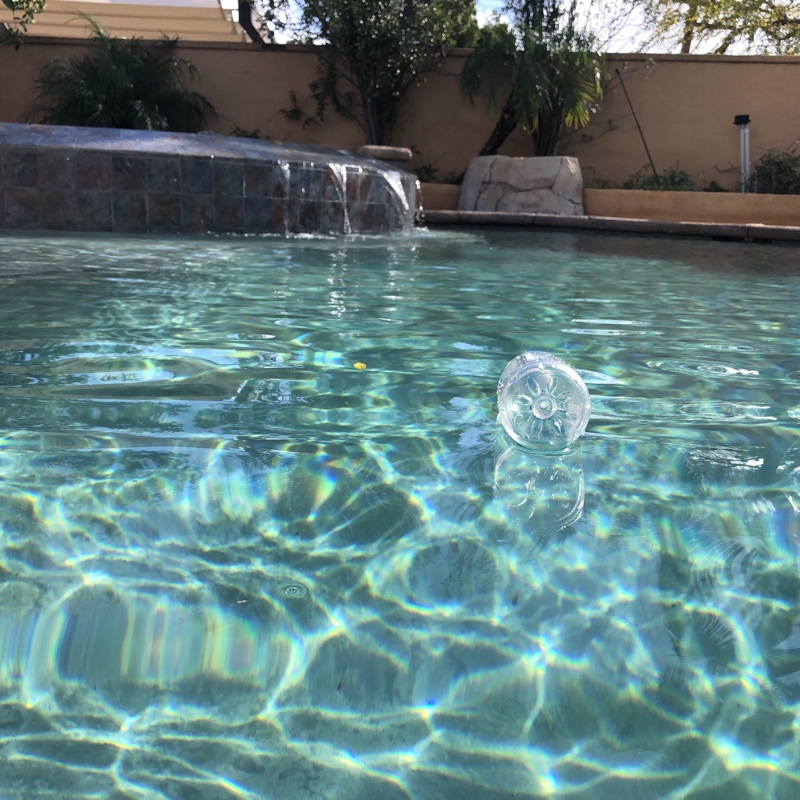Plastic Bottle: (493, 347, 593, 456)
